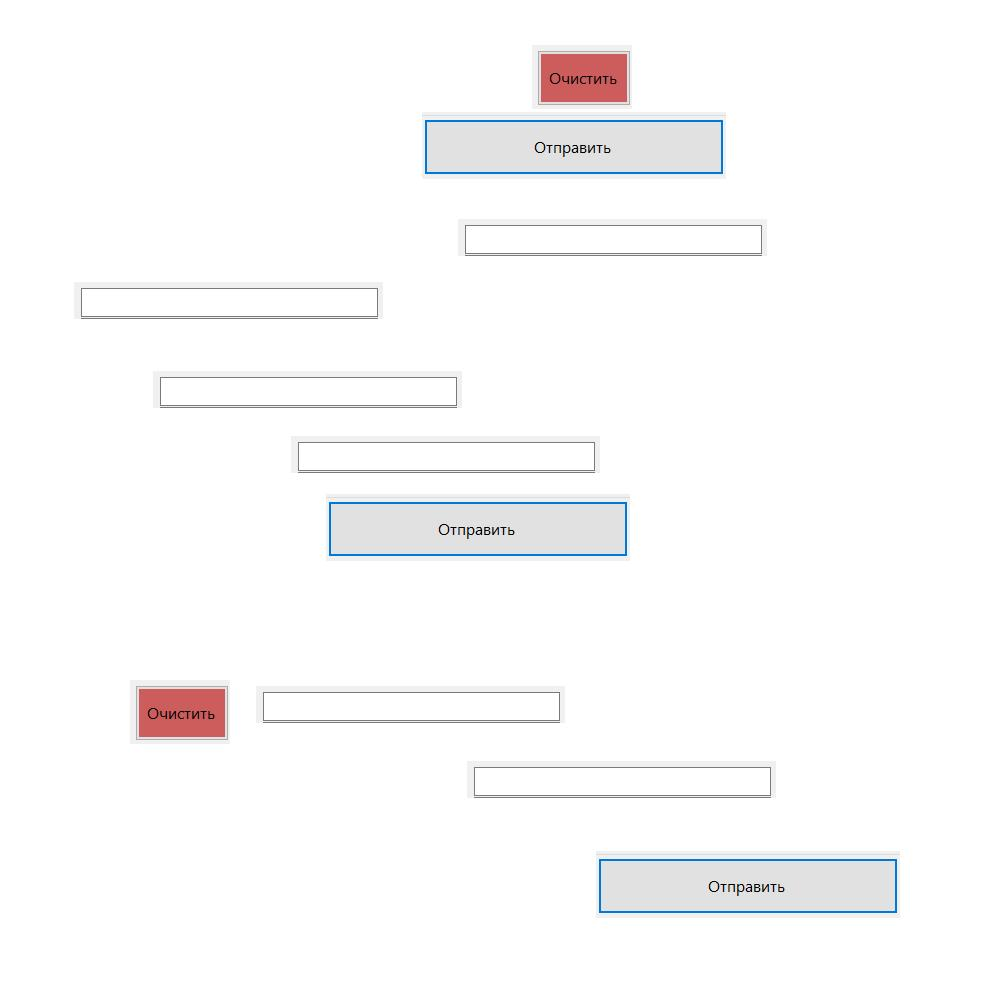Button: (422, 112, 726, 179), (596, 851, 900, 918), (326, 494, 630, 561), (532, 45, 632, 109), (130, 680, 230, 744)
EditText-: (467, 761, 776, 798), (458, 219, 767, 256), (291, 436, 600, 473), (256, 686, 565, 723), (153, 371, 462, 408), (74, 282, 383, 319)
